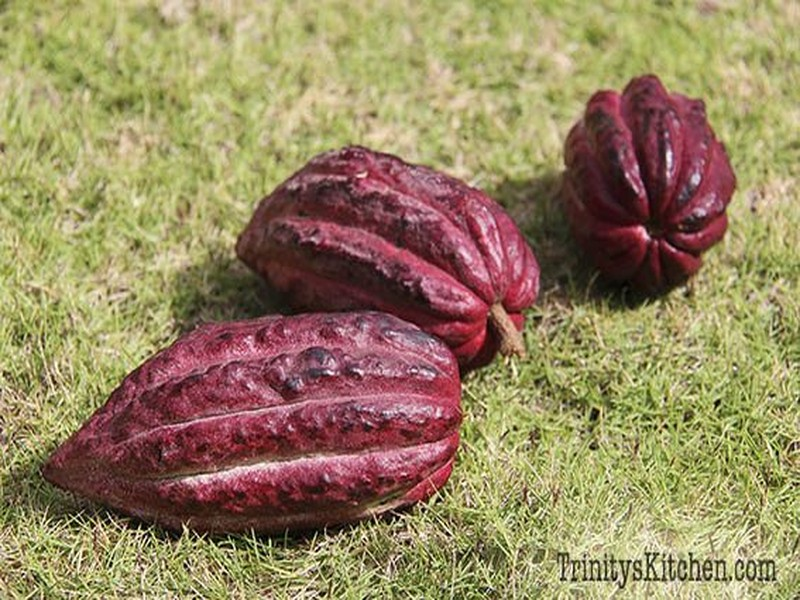Cacaopod: (41, 308, 470, 541)
